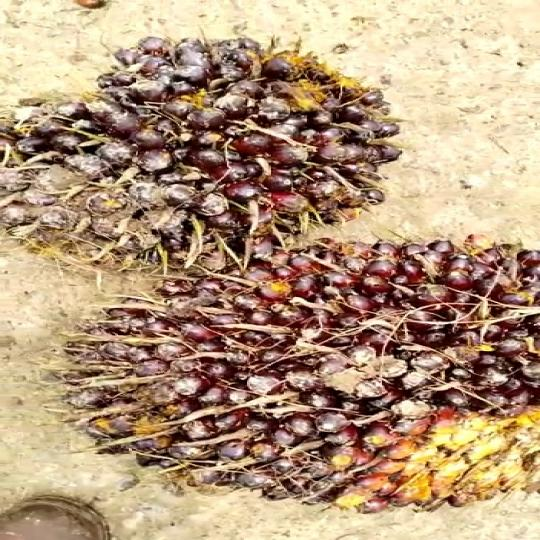kurang masak: (70, 244, 540, 508), (0, 33, 459, 258)
